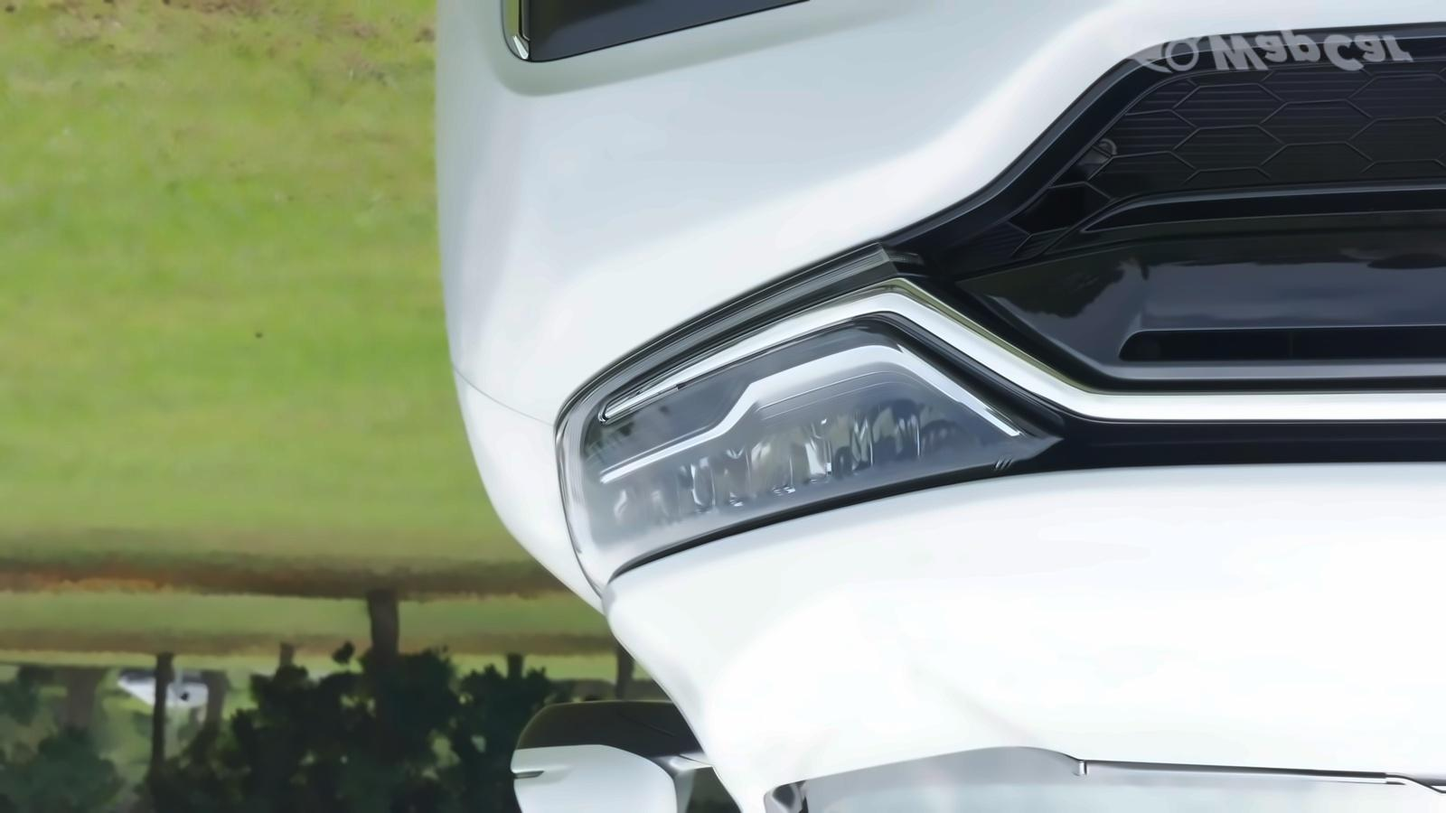Car hood: (602, 465, 1446, 769)
Front bumper: (418, 0, 1446, 423)
Headlight - -L-: (552, 280, 1070, 621)
Side bumper - -R-: (515, 692, 707, 813)
